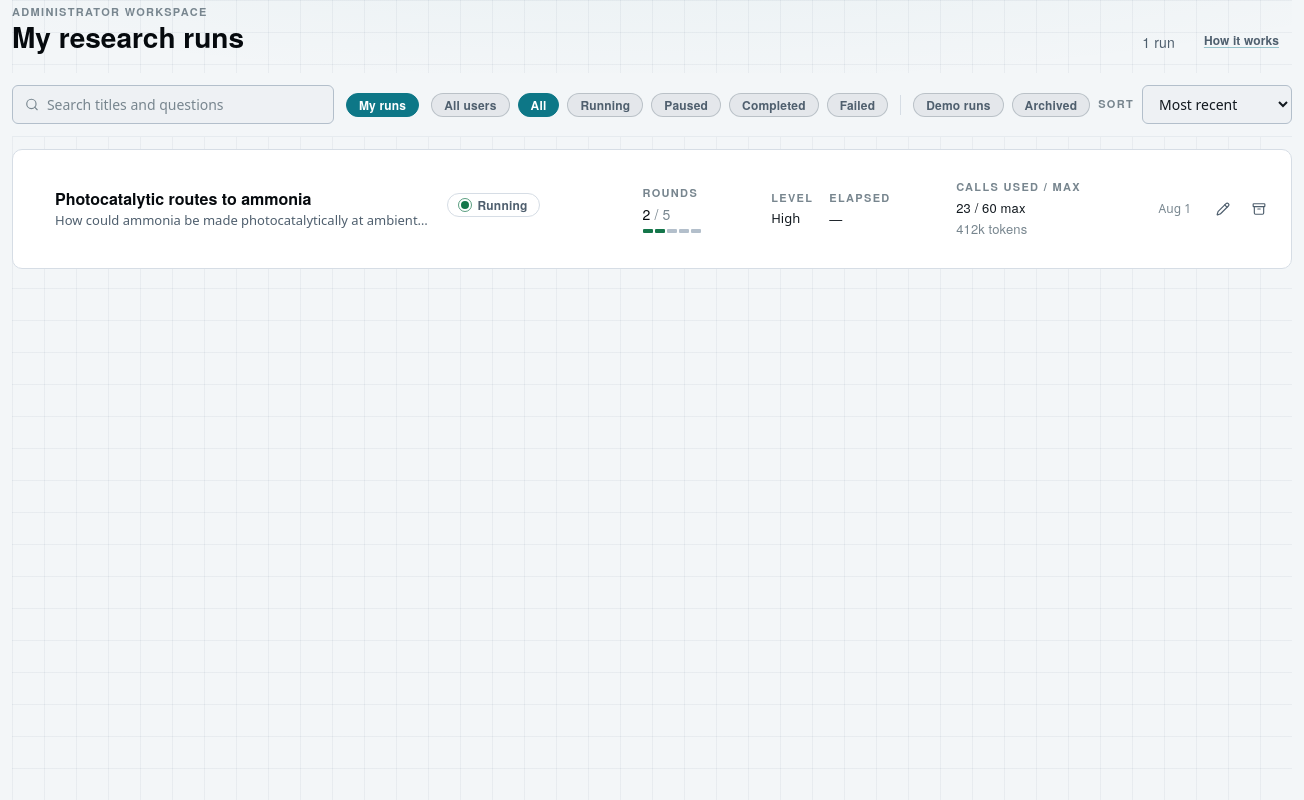
Test: runs list › renames a run in place
The image size is (1304, 800).
Check: the link "Photocatalytic routes to ammonia" is shown, box [55,188,312,209]
Click the button named "rename photocatalytic".
click(1223, 209)  # box [1207,193,1239,225]
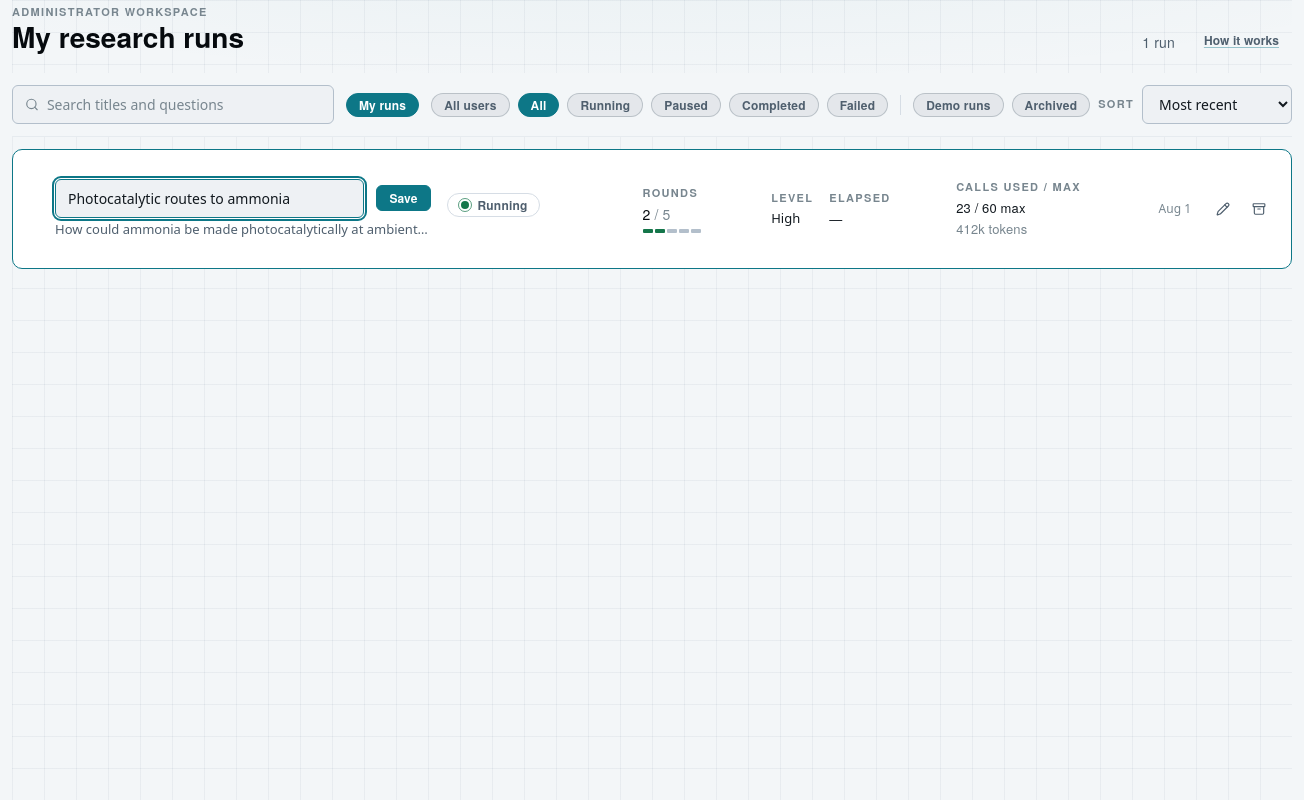
Replace the text in the field named "run title" with "Ammonia, ambient pressure" at x=210, y=198, box [55,179,364,218]
Then press Enter
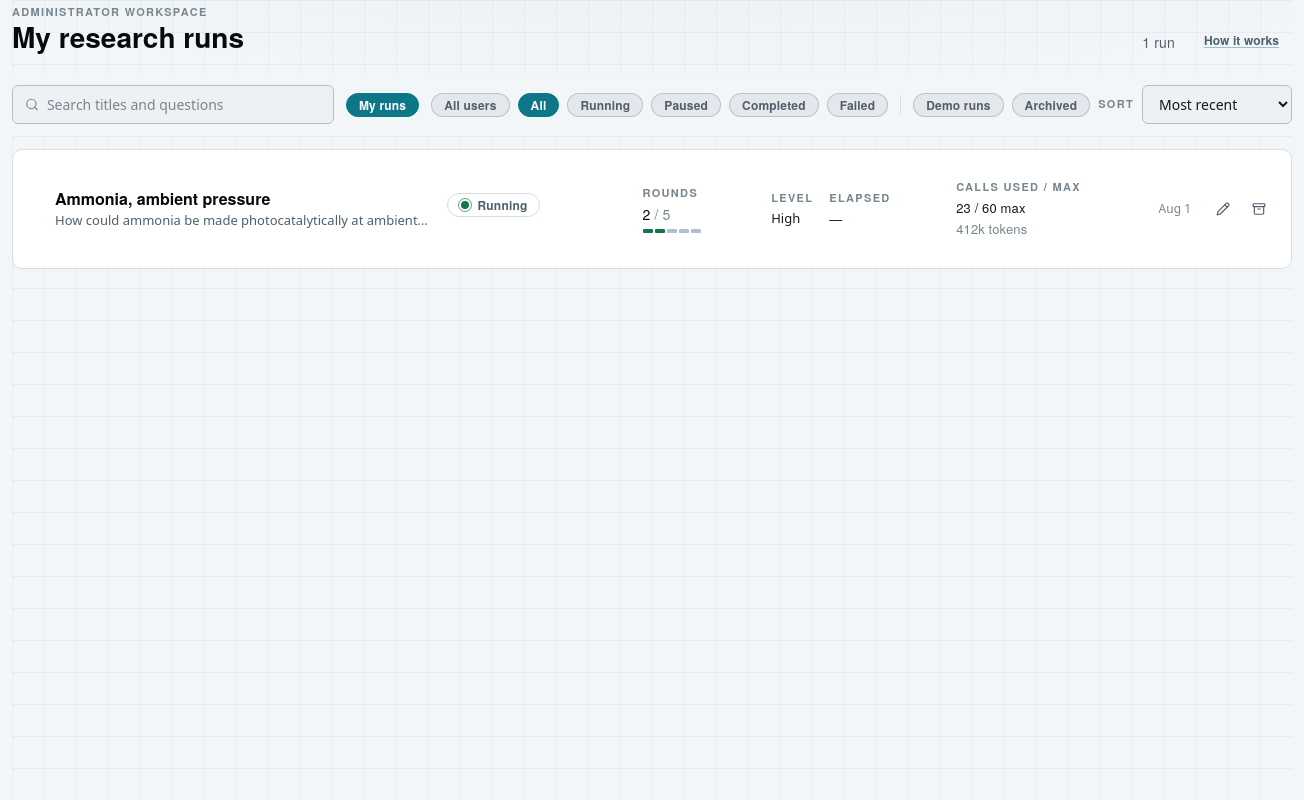
Check: the link "Ammonia, ambient pressure" is shown, box [55,188,270,209]
